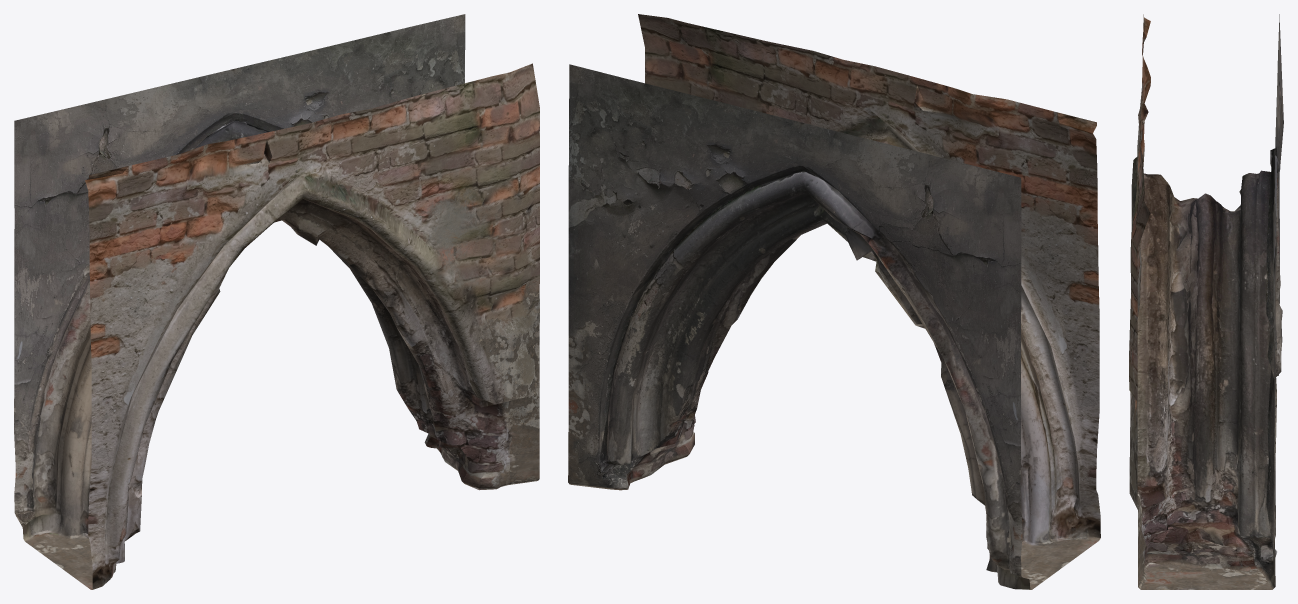
Rendered from SM_ChapelArch_01_03.fbx.
3 views of the same model, side by side, from view 1: azimuth 30°, elevation 25°; view 2: azimuth 150°, elevation 25°; view 3: azimuth 270°, elevation 25° (orthographic). The views are drawn at different scales.
Visible parts, largest first — view 1: sm_ChapelArch_01_03_LOD0; view 2: sm_ChapelArch_01_03_LOD0; view 3: sm_ChapelArch_01_03_LOD0.
Boxes of the visible parts, bbox=[...] form: sm_ChapelArch_01_03_LOD0: bbox=[14, 14, 539, 589]; sm_ChapelArch_01_03_LOD0: bbox=[568, 14, 1100, 589]; sm_ChapelArch_01_03_LOD0: bbox=[1129, 14, 1283, 589].
Bounding box in the file's own units: 69.47 × 211 × 187.
